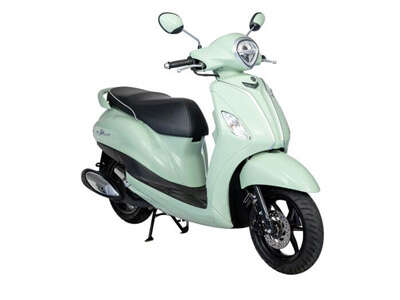motorcycle: (80, 12, 325, 276)
